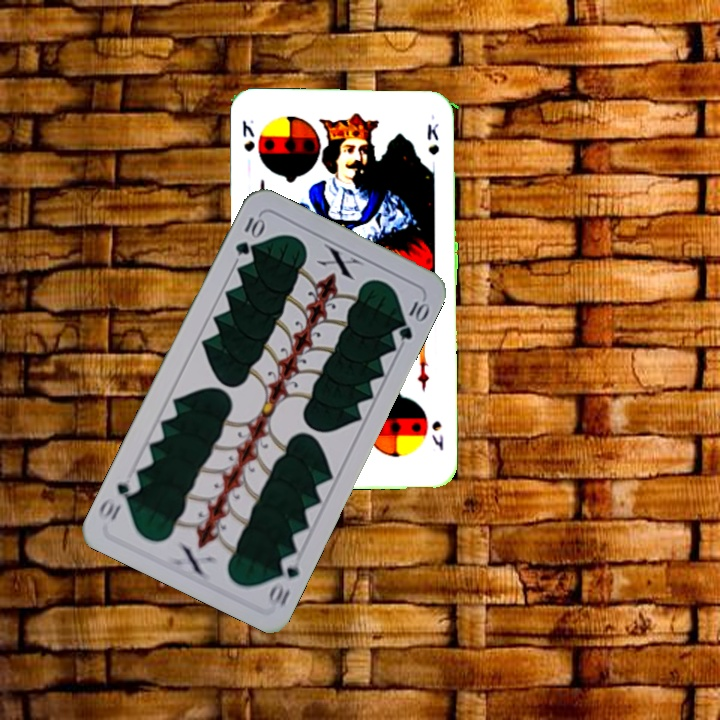G10: (264, 550, 304, 611), (231, 212, 267, 259)
SK: (238, 115, 257, 154), (428, 417, 446, 453)
